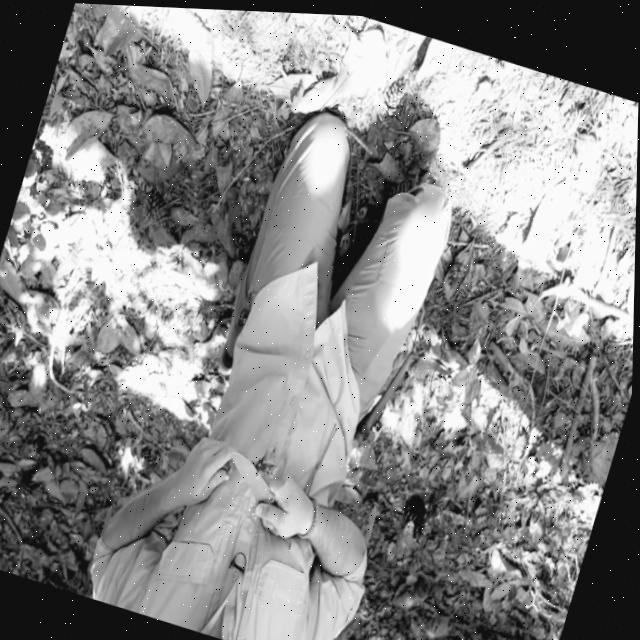knife: (222, 446, 294, 506)
